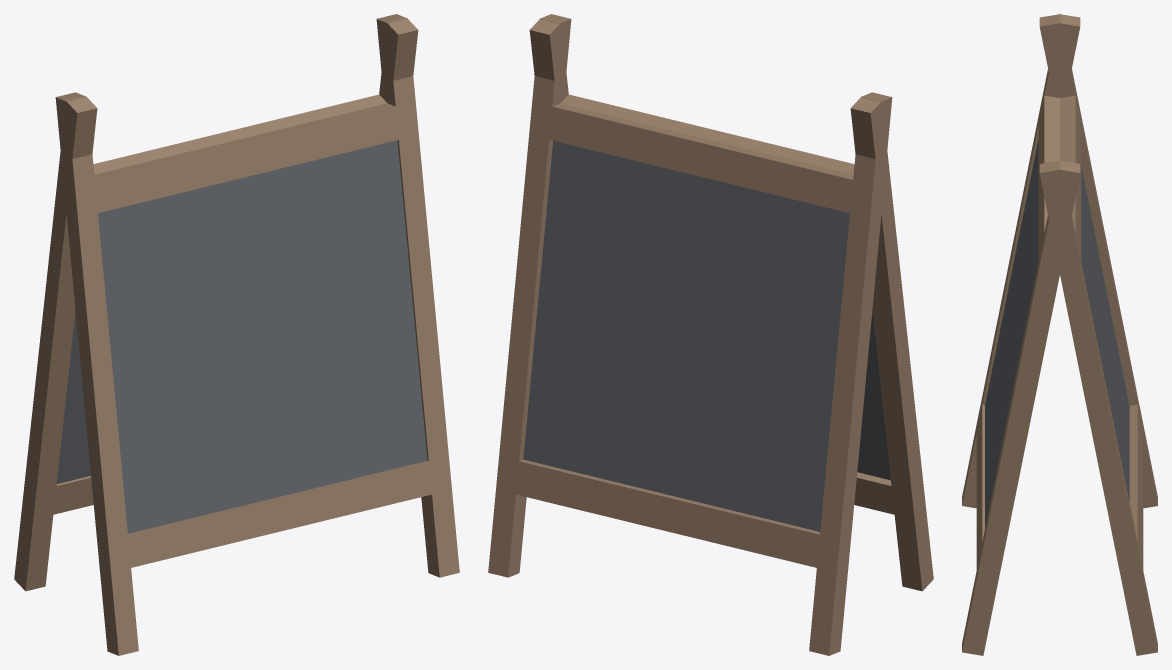
Rendered from signboard.glb.
The picture shows the model from 3 angles, left to right: view 1: azimuth 30°, elevation 25°; view 2: azimuth 150°, elevation 25°; view 3: azimuth 270°, elevation 25°; orthographic projection. The views are drawn at different scales.
Bounding box in the file's own units: 0.68 × 0.991 × 0.3616.
